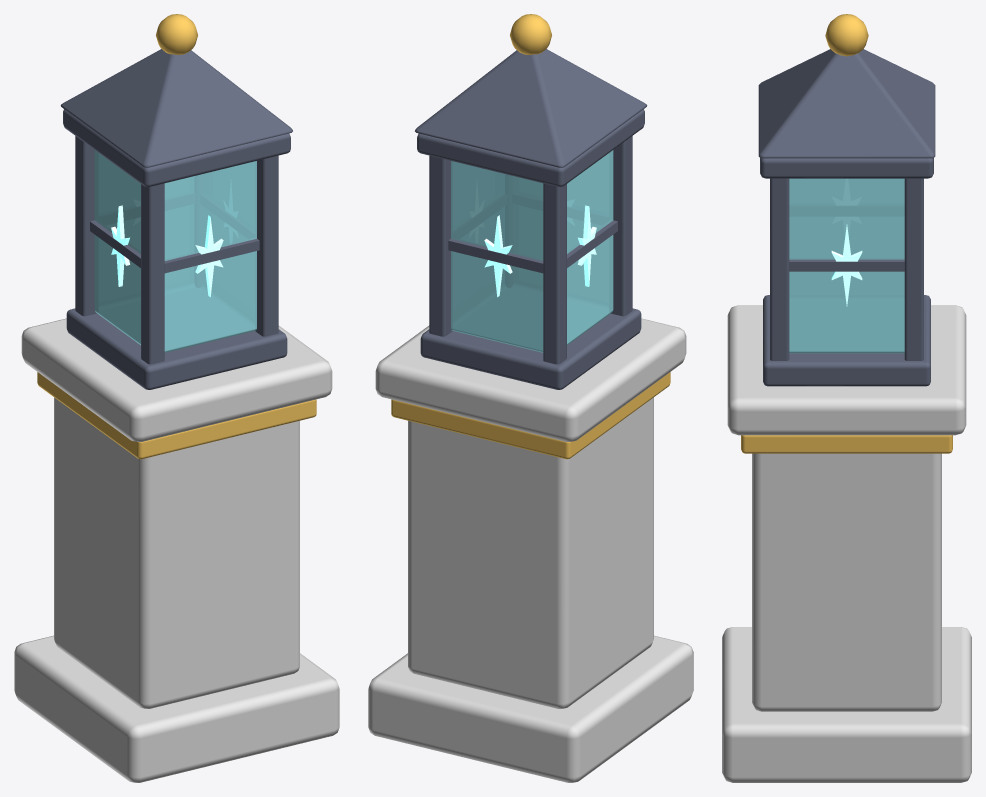
File: Lobby_PROP_LanternPost.fbx
3 views of the same model, side by side, from view 1: azimuth 30°, elevation 25°; view 2: azimuth 150°, elevation 25°; view 3: azimuth 270°, elevation 25° (orthographic). The views are drawn at different scales.
Parts seen in each view (by area): view 1: Lobby_PROP_LanternPost__Marble, Lobby_PROP_LanternPost__LanternIron, Lobby_PROP_LanternPost__LanternGlassCyan, Lobby_PROP_LanternPost__Gold, Lobby_PROP_LanternPost__NeonCyan; view 2: Lobby_PROP_LanternPost__Marble, Lobby_PROP_LanternPost__LanternIron, Lobby_PROP_LanternPost__LanternGlassCyan, Lobby_PROP_LanternPost__Gold, Lobby_PROP_LanternPost__NeonCyan; view 3: Lobby_PROP_LanternPost__Marble, Lobby_PROP_LanternPost__LanternIron, Lobby_PROP_LanternPost__LanternGlassCyan, Lobby_PROP_LanternPost__Gold, Lobby_PROP_LanternPost__NeonCyan.
Boxes of the visible parts, x1,y1,x2,y2 form: Lobby_PROP_LanternPost__Marble: [14, 318, 339, 782]; Lobby_PROP_LanternPost__LanternIron: [60, 49, 292, 389]; Lobby_PROP_LanternPost__LanternGlassCyan: [94, 150, 256, 352]; Lobby_PROP_LanternPost__Gold: [37, 14, 316, 459]; Lobby_PROP_LanternPost__NeonCyan: [111, 205, 223, 297]; Lobby_PROP_LanternPost__Marble: [368, 318, 693, 782]; Lobby_PROP_LanternPost__LanternIron: [415, 49, 647, 389]; Lobby_PROP_LanternPost__LanternGlassCyan: [451, 150, 613, 352]; Lobby_PROP_LanternPost__Gold: [391, 14, 670, 459]; Lobby_PROP_LanternPost__NeonCyan: [484, 205, 596, 297]; Lobby_PROP_LanternPost__Marble: [722, 305, 971, 782]; Lobby_PROP_LanternPost__LanternIron: [758, 49, 935, 386]; Lobby_PROP_LanternPost__LanternGlassCyan: [789, 178, 904, 353]; Lobby_PROP_LanternPost__Gold: [741, 14, 952, 453]; Lobby_PROP_LanternPost__NeonCyan: [831, 224, 862, 306].
Bounding box in the file's own units: 2.3 × 7.3 × 2.3.
